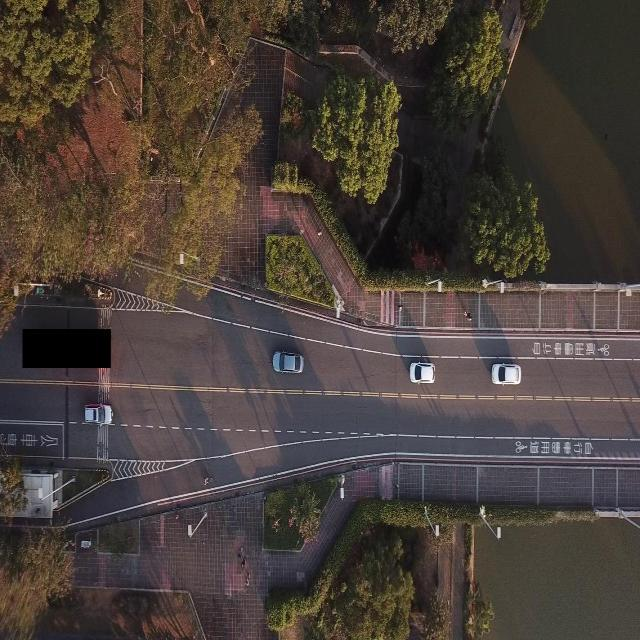car: (271, 349, 304, 377), (492, 358, 522, 386), (408, 357, 436, 385), (83, 402, 113, 426)
